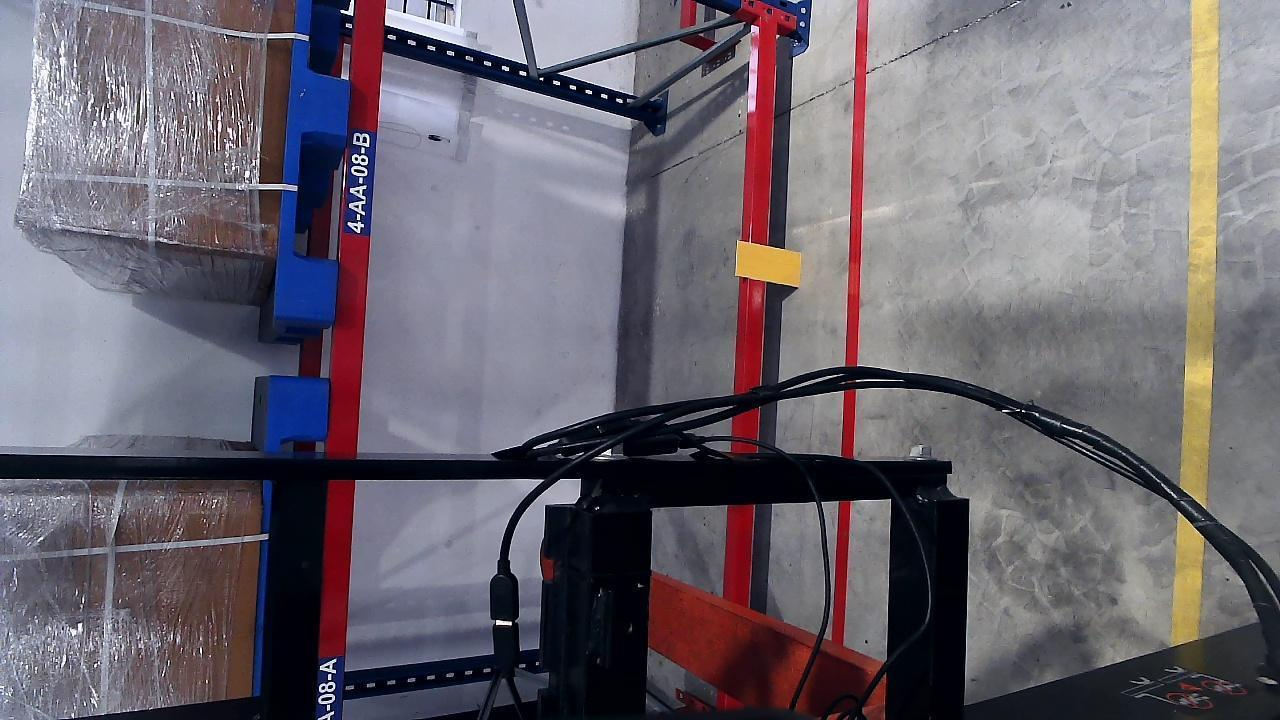red_line: (832, 3, 868, 461)
yellow_line: (1171, 4, 1221, 638)
